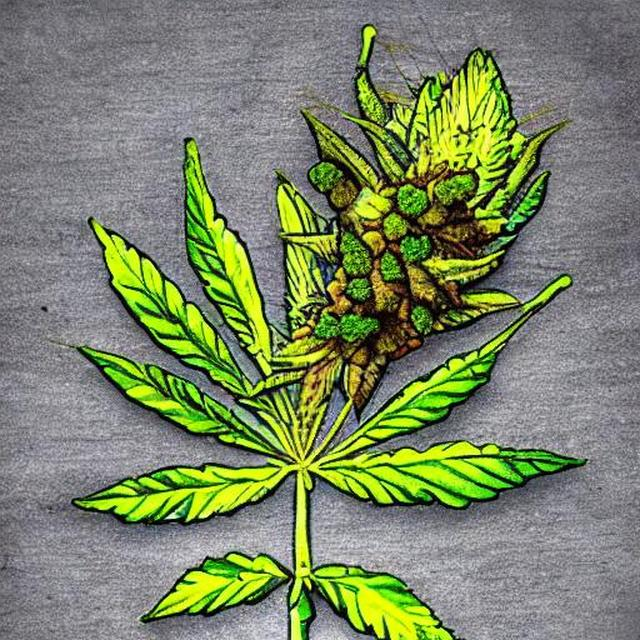Marijuana Plant: (0, 77, 639, 640)
